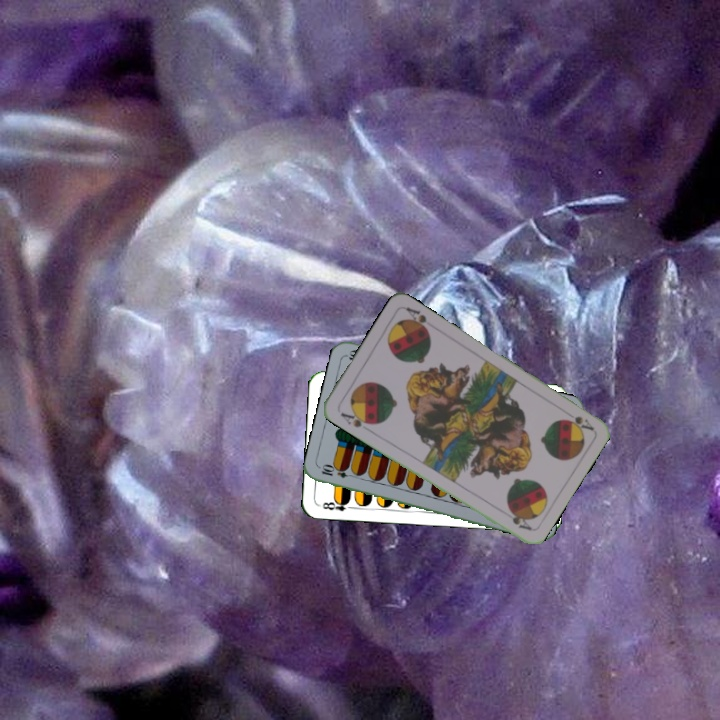E10: (317, 462, 358, 481)
E8: (319, 496, 357, 513)
SA: (559, 406, 596, 434), (336, 407, 375, 430)
